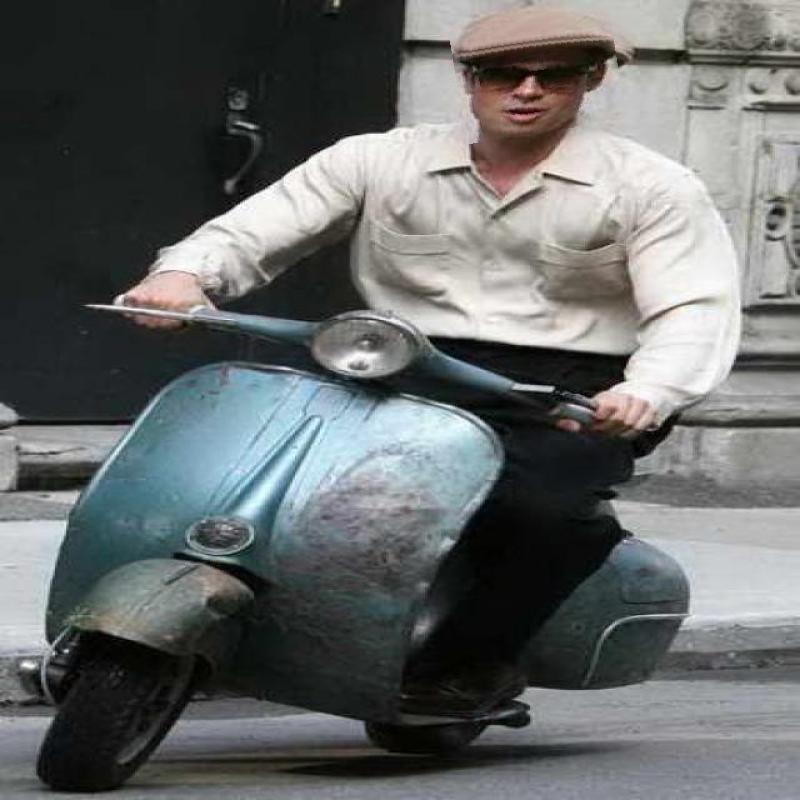nohelmet: (453, 13, 623, 138)
